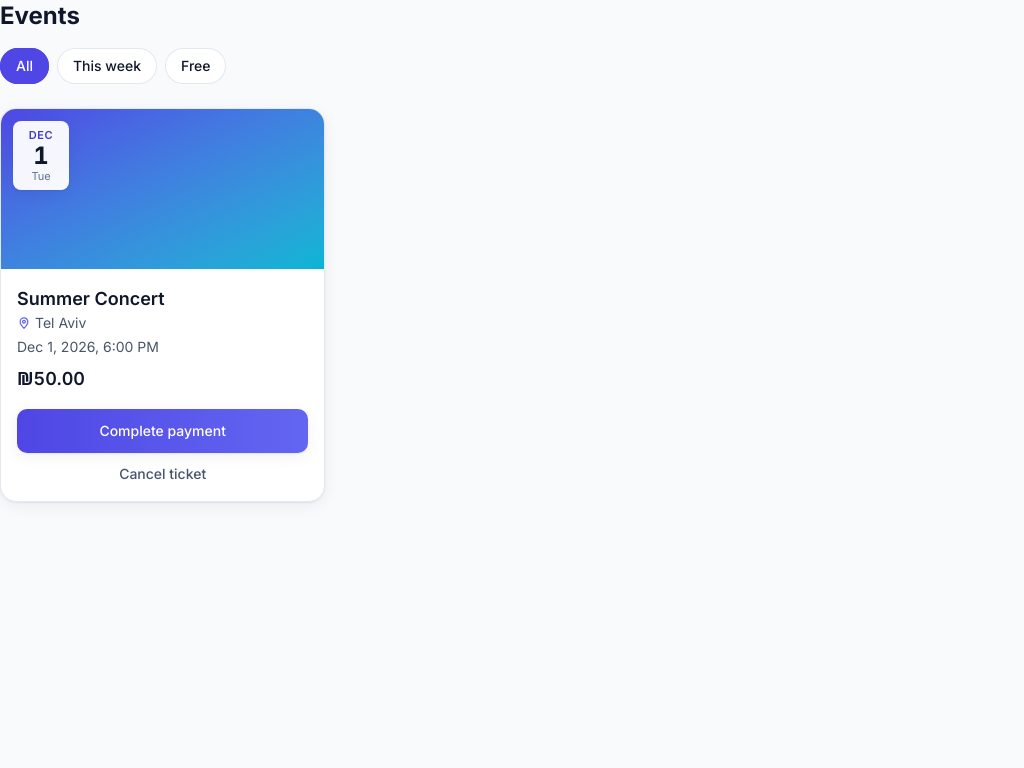
EventsPage › a pending ticket can be cancelled from its card
Click the button "Cancel ticket".
click(163, 474)  # box [115,464,210,484]
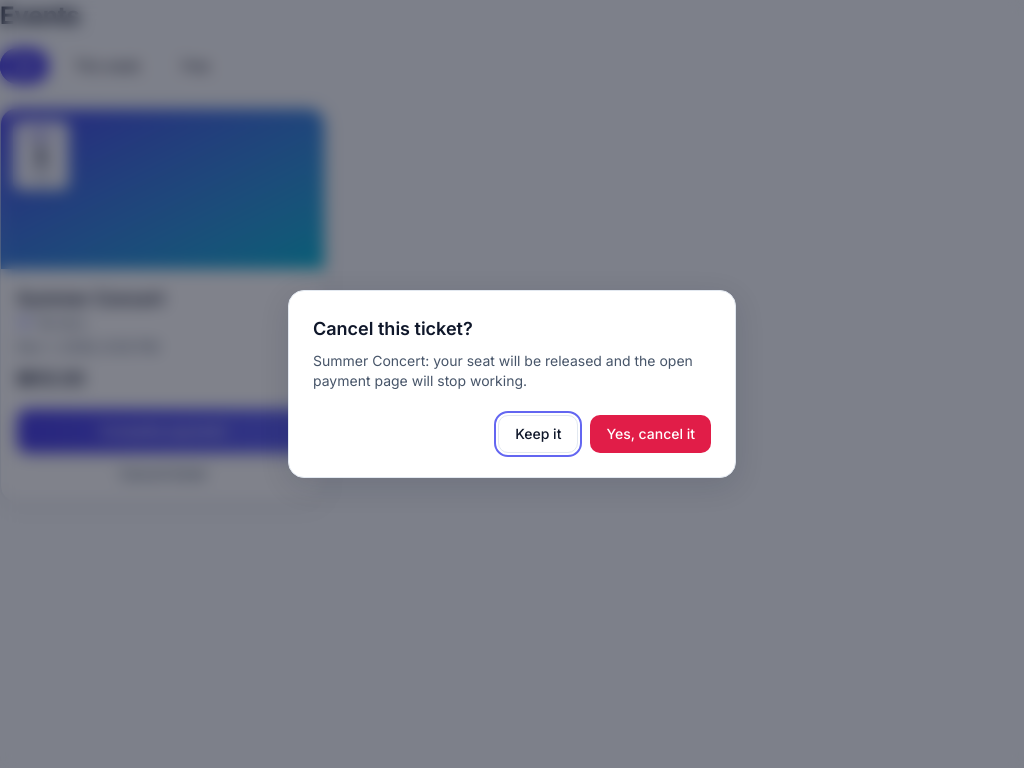
Click the button "Yes, cancel it".
click(651, 434)  # box [590,415,711,453]
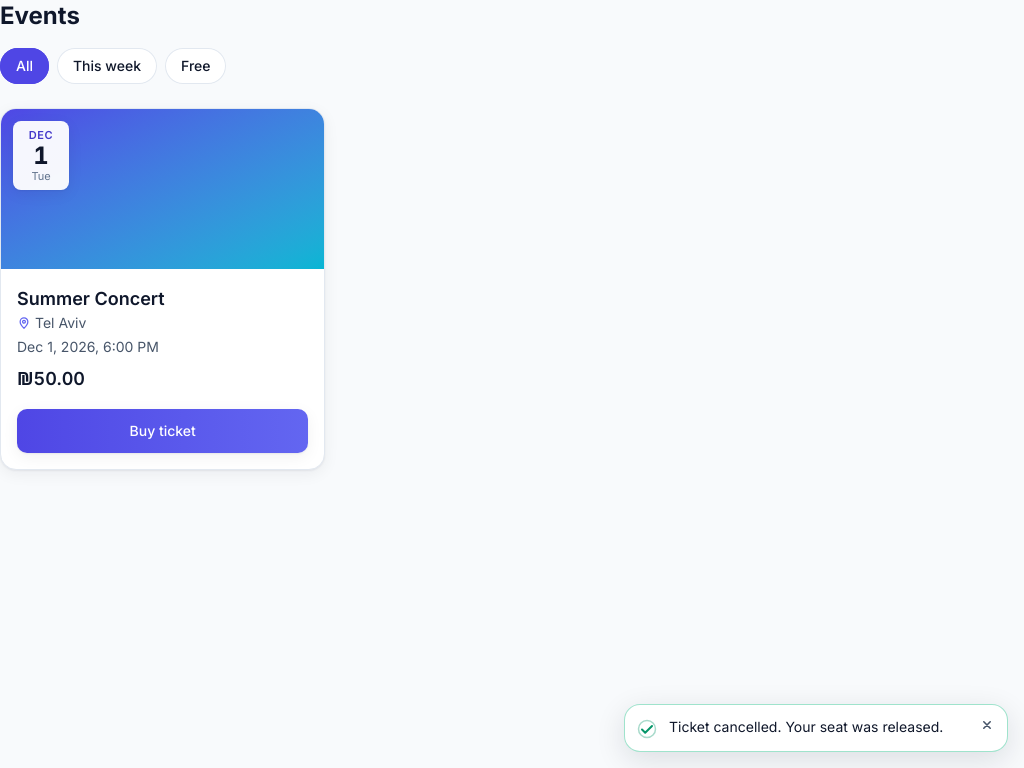
expect the button "Buy ticket" is shown: met, box [17,409,308,453]
expect the element named "Notifications" shows "Ticket cancelled.": met, box [669,718,943,735]
